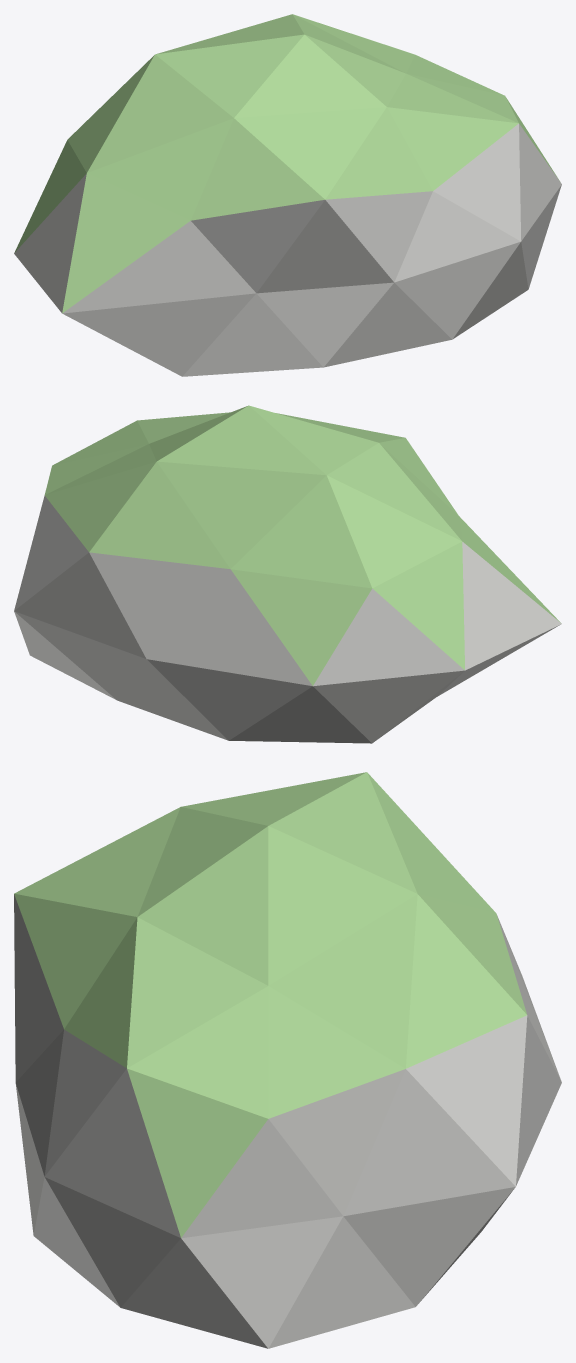
File: rock_large_A.glb
3 renders of one model, top to bottom at view 1: azimuth 30°, elevation 25°; view 2: azimuth 150°, elevation 25°; view 3: azimuth 270°, elevation 25°, orthographic. The views are drawn at different scales.
Visible parts, largest first — view 1: rock_large_A; view 2: rock_large_A; view 3: rock_large_A.
Part boxes in pixels (<box>): rock_large_A: <box>14,14,561,376</box>; rock_large_A: <box>14,405,561,743</box>; rock_large_A: <box>14,772,561,1348</box>.
Bounding box in the file's own units: 0.9078 × 0.4425 × 0.6006.
